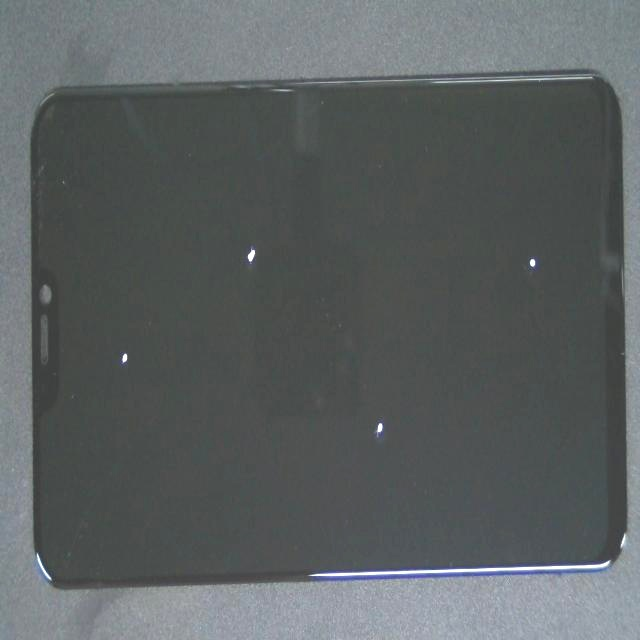stain: (184, 156, 561, 630), (272, 77, 640, 381), (133, 61, 366, 350), (62, 133, 169, 522)
